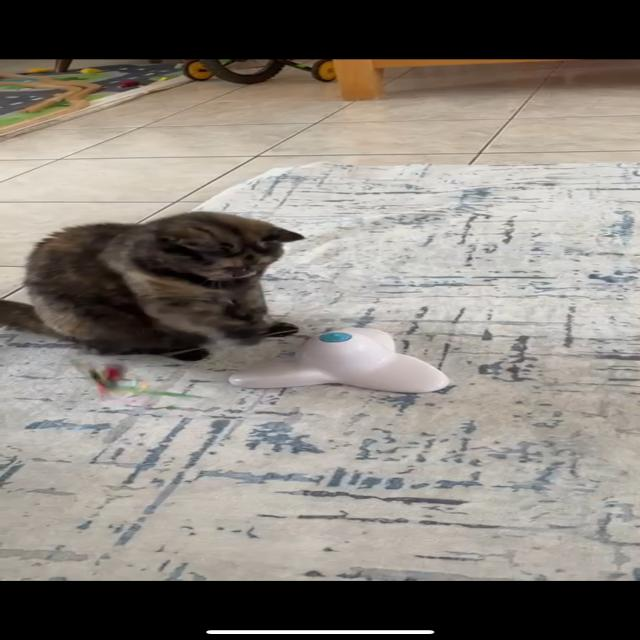authorized: (1, 210, 306, 361)
